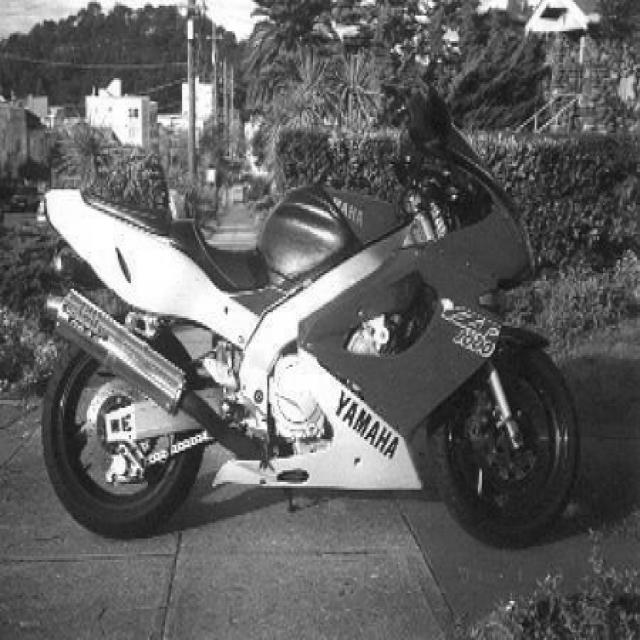Motorcycle: (44, 94, 580, 546)
